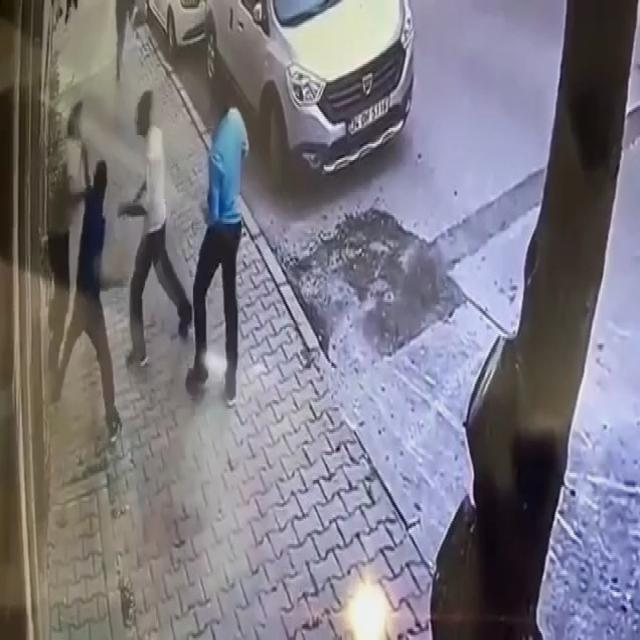fight: (45, 68, 181, 416)
